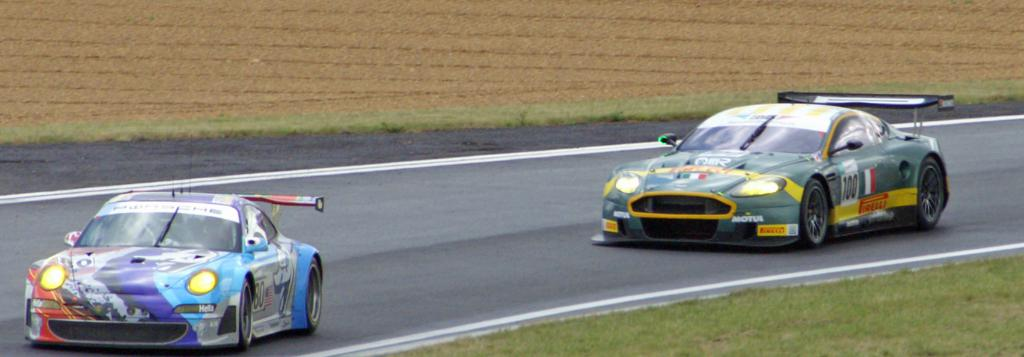Car: (21, 136, 330, 356), (593, 90, 995, 252)
